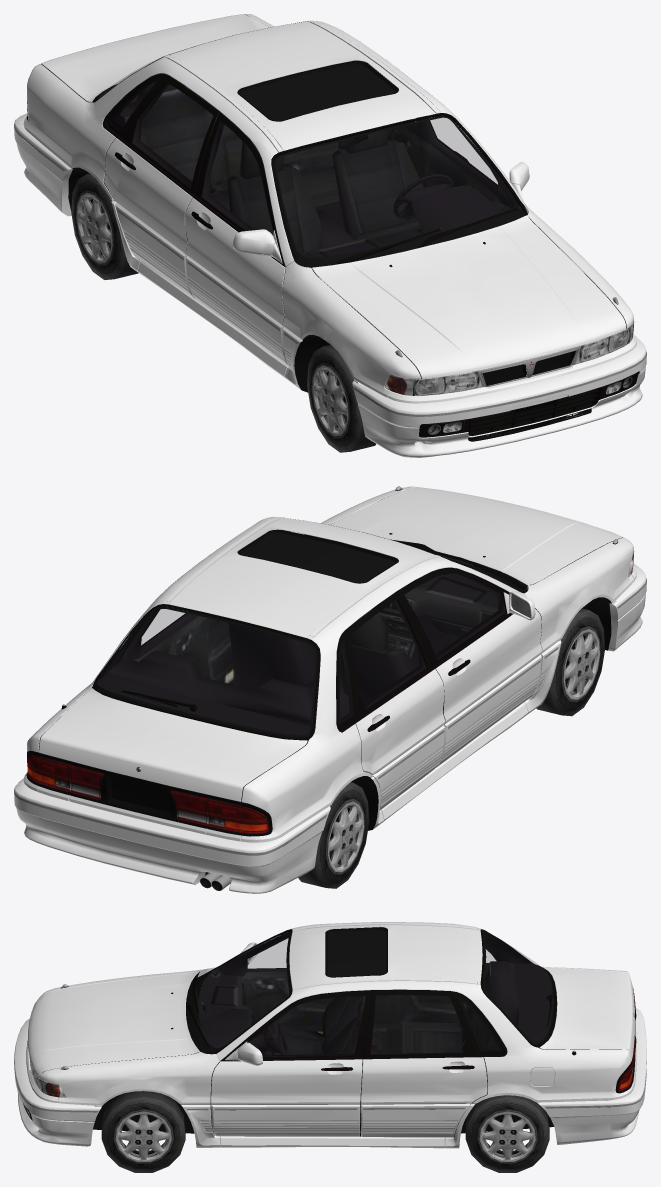
The model's file is gt_galant_hi.glb.
3 renders of one model, top to bottom at view 1: azimuth 30°, elevation 25°; view 2: azimuth 150°, elevation 25°; view 3: azimuth 270°, elevation 25°, orthographic. The views are drawn at different scales.
Visible parts, largest first — view 1: Object_4, Object_16, Object_18, Object_10, Object_8, WHEEL_RF_TIRE, Object_20, Object_12, Object_6, WHEEL_RR_TIRE, WHEEL_RR_RIM, WHEEL_RF_RIM (+1 smaller); view 2: Object_4, Object_16, Object_18, Object_10, Object_8, Object_20, WHEEL_RF_TIRE, WHEEL_RR_TIRE, Object_6, Object_12, WHEEL_RF_RIM, WHEEL_RR_RIM (+1 smaller); view 3: Object_4, Object_16, Object_18, Object_10, Object_8, WHEEL_LF_TIRE, WHEEL_LR_TIRE, WHEEL_LF_RIM, WHEEL_LR_RIM, Object_12, Object_6, Object_20.
Part boxes in pixels (x1,y1,x2,y2): Object_4: (14,14,646,457); Object_16: (97,60,634,435); Object_18: (97,73,514,273); Object_10: (26,21,639,441); Object_8: (41,14,638,442); WHEEL_RF_TIRE: (307,344,375,452); Object_20: (385,321,634,395); Object_12: (95,78,519,263); Object_6: (14,126,646,434); WHEEL_RR_TIRE: (71,173,138,279); WHEEL_RR_RIM: (76,192,112,263); WHEEL_RF_RIM: (312,365,348,436); Object_4: (14,486,646,893); Object_16: (97,532,514,734); Object_18: (97,531,514,735); Object_10: (26,489,617,836); Object_8: (27,492,622,890); Object_20: (27,551,634,833); WHEEL_RF_TIRE: (536,608,604,716); WHEEL_RR_TIRE: (298,782,369,888); Object_6: (14,487,646,890); Object_12: (95,564,518,737); WHEEL_RF_RIM: (563,628,599,699); WHEEL_RR_RIM: (327,801,364,872); Object_4: (14,922,646,1148); Object_16: (24,928,552,1118); Object_18: (198,931,552,1132); Object_10: (23,927,636,1120); Object_8: (28,928,635,1146); WHEEL_LF_TIRE: (101,1091,185,1172); WHEEL_LR_TIRE: (465,1093,549,1172); WHEEL_LF_RIM: (115,1111,171,1161); WHEEL_LR_RIM: (479,1111,535,1161); Object_12: (193,930,554,1052); Object_6: (14,944,646,1116); Object_20: (30,992,635,1097).
Bounding box in the file's own units: 1.92 × 1.42 × 4.58.
9 materials, 7 textured.
